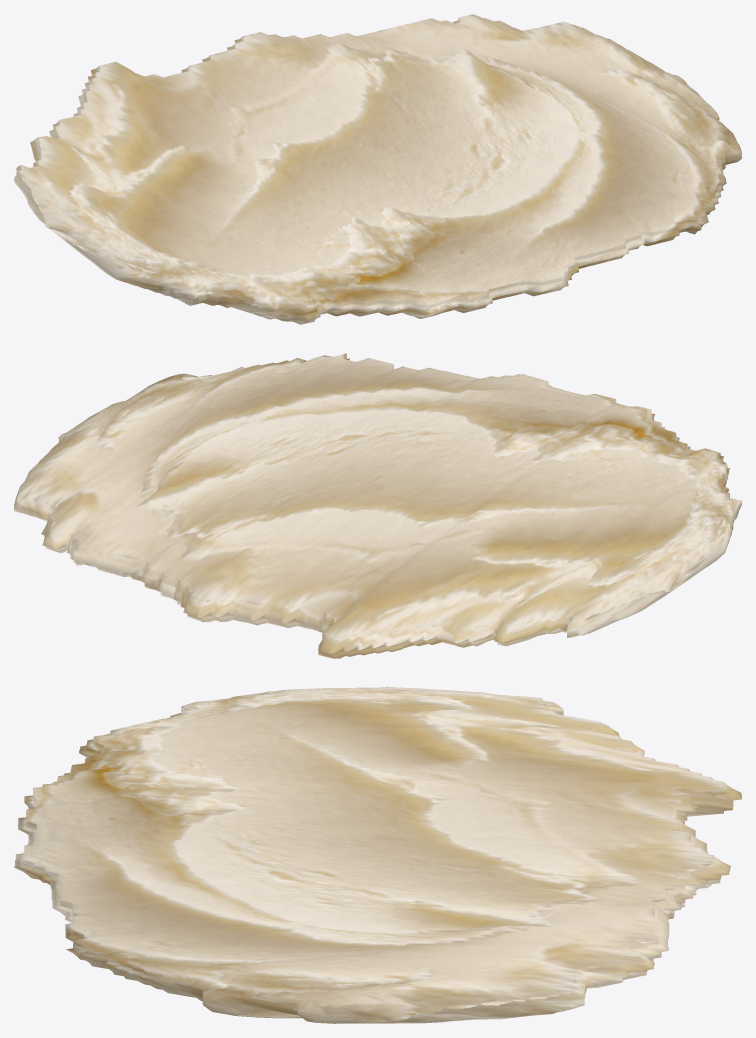
Rendered from cream-cheese.glb.
3 renders of one model, top to bottom at view 1: azimuth 30°, elevation 25°; view 2: azimuth 150°, elevation 25°; view 3: azimuth 270°, elevation 25°, orthographic. The views are drawn at different scales.
Visible parts, largest first — view 1: cream-cheese; view 2: cream-cheese; view 3: cream-cheese.
Part boxes in pixels (bbox=[...]): cream-cheese: bbox=[14, 14, 741, 324]; cream-cheese: bbox=[14, 353, 741, 658]; cream-cheese: bbox=[14, 687, 741, 1023].
Bounding box in the file's own units: 0.86 × 0.053 × 0.8.
Materials: 1 (1 with a texture image).
